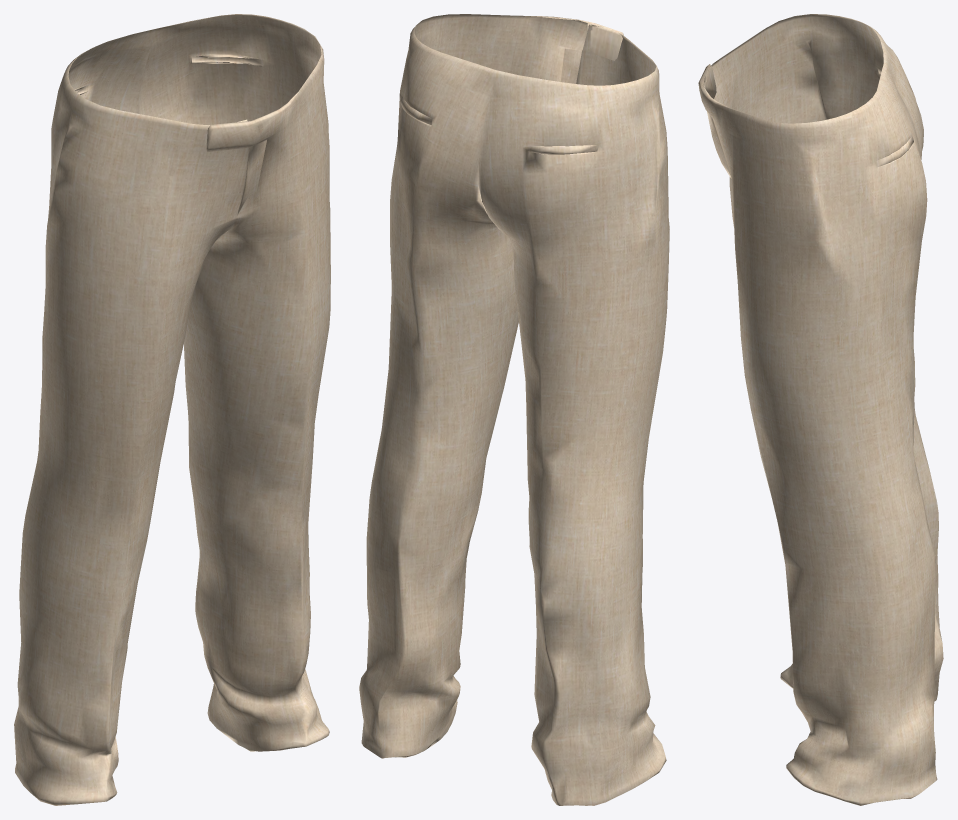
File: Touser_new.glb
3 renders of one model, left to right at view 1: azimuth 30°, elevation 25°; view 2: azimuth 150°, elevation 25°; view 3: azimuth 270°, elevation 25°, orthographic. The views are drawn at different scales.
Visible parts, largest first — view 1: Pleat None; view 2: Pleat None; view 3: Pleat None.
Part boxes in pixels (x1,y1,x2,y2): Pleat None: (14,14,330,805); Pleat None: (359,14,669,805); Pleat None: (698,14,943,805).
Size of the model in its own units: 0.7033 by 1.68 by 0.5468.
1 material, 1 textured.
